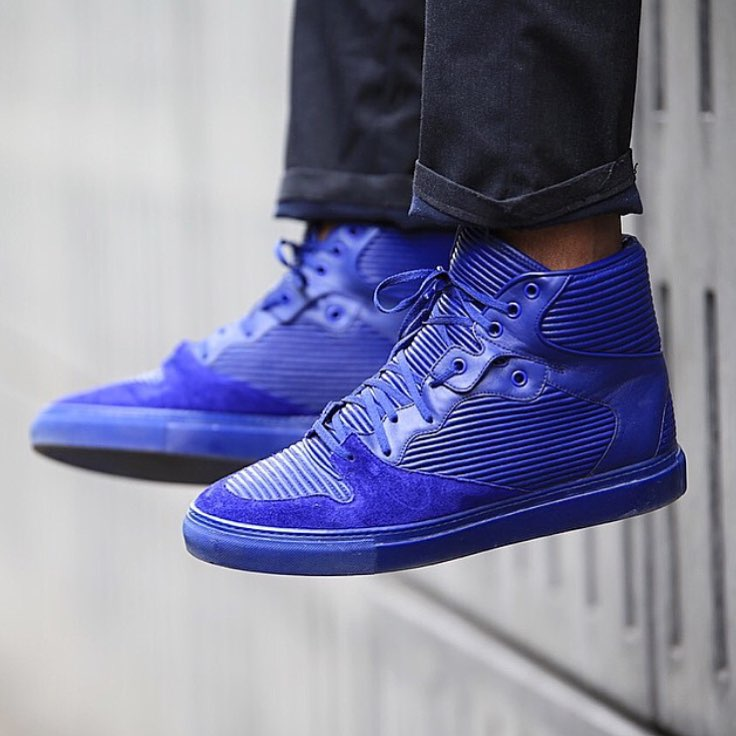sneaker: (163, 176, 707, 607), (14, 180, 504, 507)
